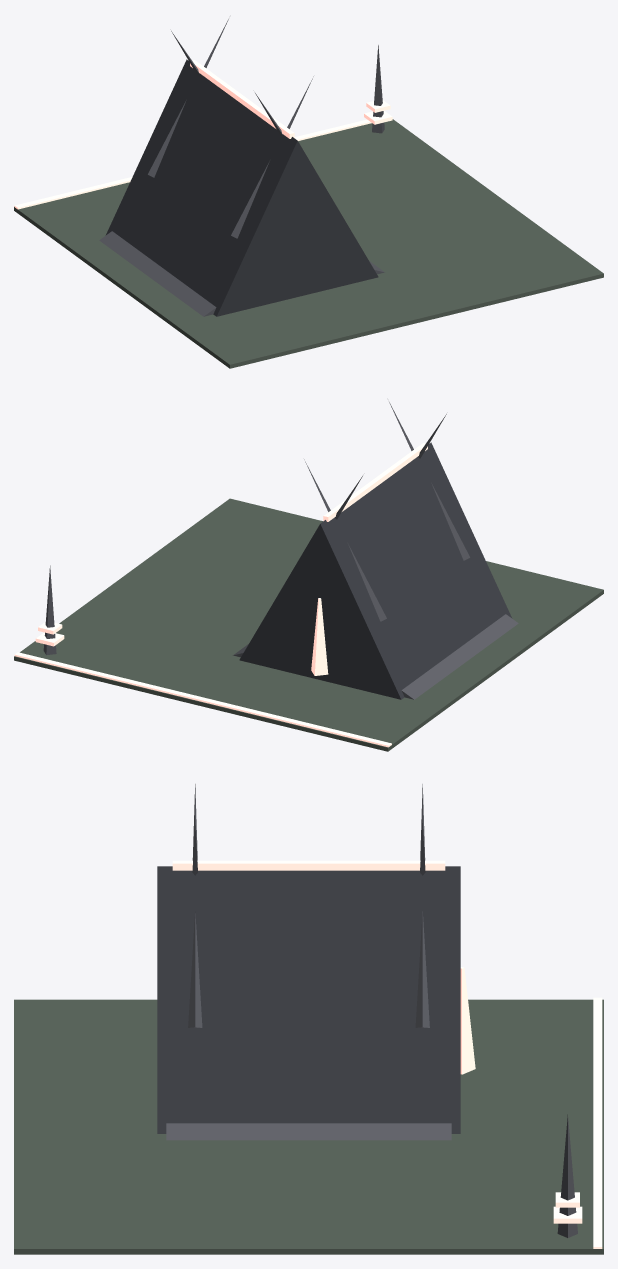
The model's file is zone_low_6_t2.glb.
The picture shows the model from 3 angles, top to bottom: view 1: azimuth 30°, elevation 25°; view 2: azimuth 150°, elevation 25°; view 3: azimuth 270°, elevation 25°; orthographic projection. The views are drawn at different scales.
Parts seen in each view (by area): view 1: zone_low_6_t2, detail; view 2: zone_low_6_t2, detail; view 3: zone_low_6_t2, detail.
Part boxes in pixels (left/top/right/bottom): zone_low_6_t2: left=14, top=19, right=603, bottom=368; detail: left=14, top=45, right=392, bottom=209; zone_low_6_t2: left=14, top=402, right=603, bottom=751; detail: left=14, top=565, right=391, bottom=747; zone_low_6_t2: left=14, top=784, right=603, bottom=1254; detail: left=553, top=997, right=602, bottom=1248.
Bounding box in the file's own units: 19.6 × 10.43 × 19.6.
